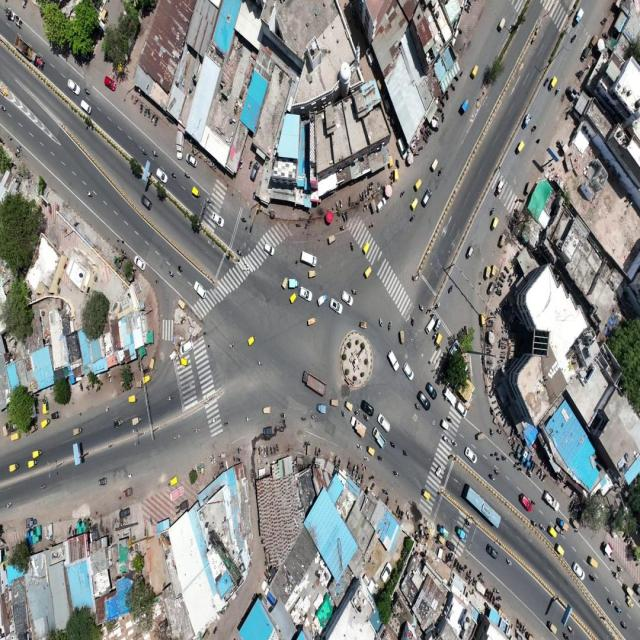3W: (546, 617, 559, 638), (361, 235, 371, 258), (587, 549, 599, 567), (555, 540, 568, 556), (363, 263, 373, 279), (7, 463, 23, 473), (624, 580, 634, 596), (490, 217, 501, 231), (421, 487, 431, 502), (31, 446, 43, 458), (626, 597, 635, 613), (547, 524, 556, 540), (112, 418, 124, 429), (344, 397, 354, 410), (330, 394, 340, 407), (190, 185, 200, 198), (248, 332, 257, 346), (130, 418, 144, 427), (368, 445, 377, 459), (398, 329, 406, 344), (470, 63, 479, 76), (128, 391, 137, 404), (482, 265, 491, 277), (429, 158, 438, 170), (290, 290, 298, 303), (40, 417, 50, 427), (170, 477, 180, 487), (262, 404, 271, 415), (416, 175, 423, 189), (328, 234, 335, 248), (492, 262, 498, 278), (477, 429, 484, 442), (180, 356, 189, 366), (468, 244, 474, 259), (517, 140, 524, 152), (178, 297, 186, 307), (411, 197, 417, 210), (308, 317, 315, 328), (143, 373, 150, 384), (72, 427, 81, 435), (480, 314, 486, 326), (281, 278, 288, 288), (309, 270, 316, 278)
Bus: (466, 480, 502, 528)
Cars: (300, 247, 320, 269), (378, 404, 394, 430), (385, 348, 401, 373), (152, 164, 169, 186), (443, 384, 457, 409), (402, 360, 417, 383), (518, 492, 534, 513), (570, 560, 586, 580), (66, 77, 82, 97), (415, 389, 429, 410), (104, 74, 118, 93), (496, 15, 508, 37), (134, 250, 147, 270), (465, 445, 478, 464), (192, 282, 207, 298), (360, 397, 374, 414), (425, 383, 437, 402), (211, 211, 225, 227), (180, 337, 194, 353), (80, 100, 94, 116), (486, 540, 498, 558), (264, 240, 276, 258), (339, 291, 353, 306), (458, 397, 467, 420), (330, 299, 342, 316), (142, 192, 152, 210), (422, 188, 433, 204), (300, 288, 312, 302), (186, 152, 198, 164), (98, 478, 106, 487)
LCV: (12, 34, 43, 70), (543, 483, 559, 513), (350, 415, 366, 437), (314, 289, 330, 308), (374, 426, 386, 449), (23, 511, 40, 527), (438, 520, 450, 540), (460, 96, 470, 114), (289, 274, 299, 291), (316, 402, 327, 415), (457, 528, 467, 542), (124, 482, 133, 496)
M2W: (616, 560, 623, 577), (501, 34, 509, 48), (243, 413, 251, 426), (451, 437, 458, 451), (589, 570, 596, 584), (176, 260, 182, 276), (184, 168, 192, 180), (614, 603, 622, 615), (539, 480, 548, 490), (610, 571, 619, 581), (279, 409, 286, 421), (492, 41, 499, 53), (126, 467, 132, 481), (488, 472, 495, 484), (170, 169, 177, 181), (84, 84, 91, 96), (489, 207, 497, 217), (606, 594, 612, 607), (364, 413, 370, 425), (419, 302, 425, 314), (141, 147, 149, 156), (464, 515, 470, 527), (5, 502, 12, 512), (540, 521, 547, 531), (209, 416, 216, 426), (228, 340, 238, 347), (354, 410, 361, 420), (494, 466, 501, 476), (86, 190, 93, 200), (531, 516, 536, 530), (442, 434, 449, 444), (399, 186, 403, 203), (378, 317, 384, 328), (166, 394, 174, 402), (409, 212, 416, 221), (310, 412, 317, 421), (173, 432, 180, 441), (40, 484, 49, 491), (105, 406, 111, 416), (368, 220, 374, 230), (300, 414, 306, 424), (437, 166, 442, 178), (256, 356, 262, 366), (403, 448, 409, 458), (410, 316, 415, 328), (555, 86, 561, 96), (386, 320, 393, 328), (431, 331, 438, 339), (166, 271, 174, 278), (152, 149, 159, 157), (362, 455, 370, 462), (357, 441, 362, 452), (378, 453, 383, 464), (620, 620, 626, 629), (390, 440, 395, 450), (349, 241, 354, 251), (341, 411, 346, 421), (507, 557, 512, 567), (194, 424, 199, 434), (223, 421, 229, 428), (414, 402, 419, 410), (394, 470, 398, 479), (352, 287, 357, 293)
Truck: (301, 367, 327, 397)
